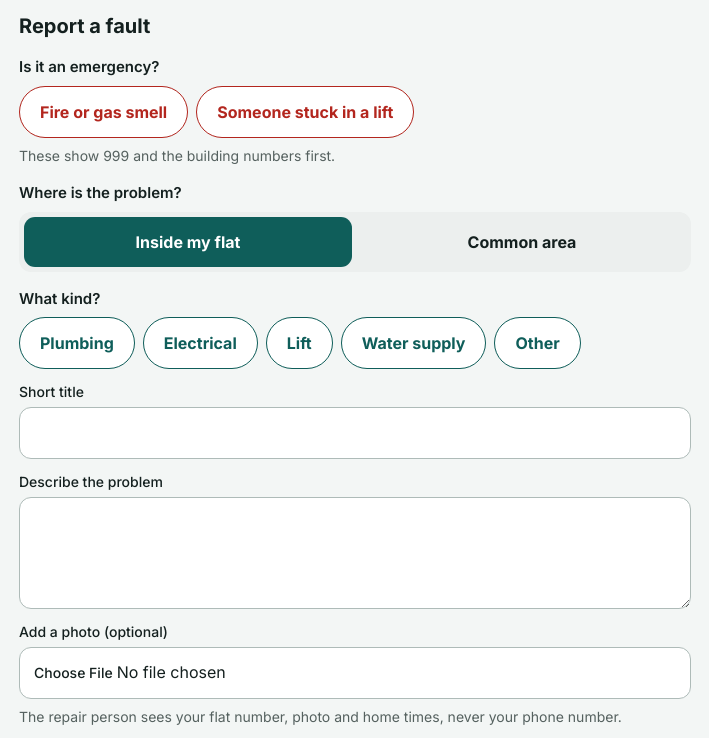
Test: ReportFaultForm: common area › shows the API's message when Me too is refused (TC-R02-09)
Click the button "Common area": (522, 242) [357,216,687,268]
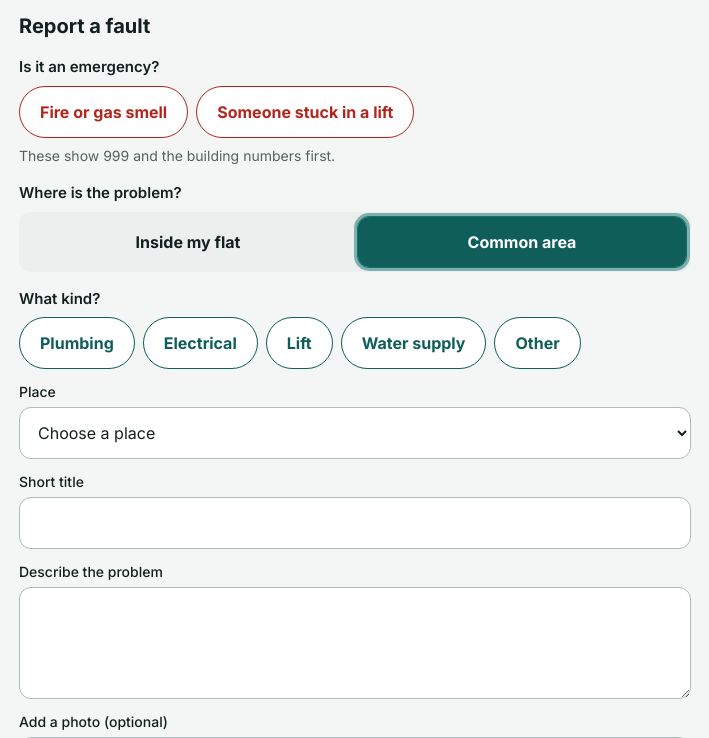
Click the button "Plumbing": (77, 343) [19,317,135,369]
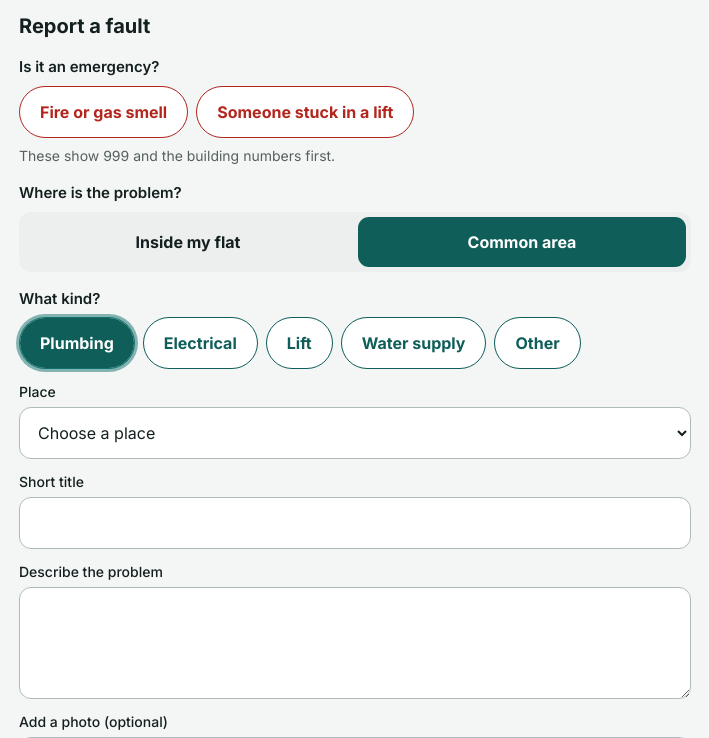
Select "Water pump" in the dropdown labelled "Place": (355, 433) [19,407,691,459]
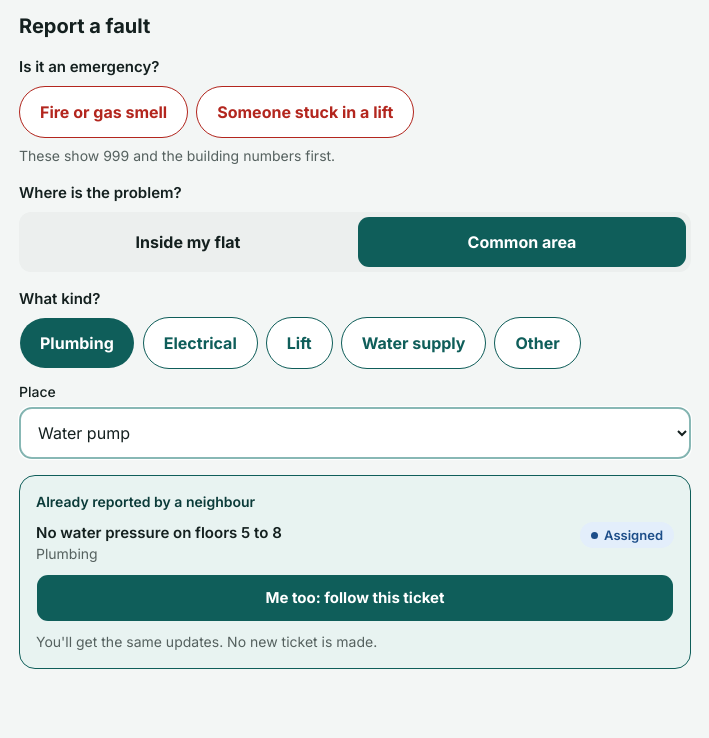
Click the button "Me too: follow this ticket": (355, 598) [36,574,674,622]
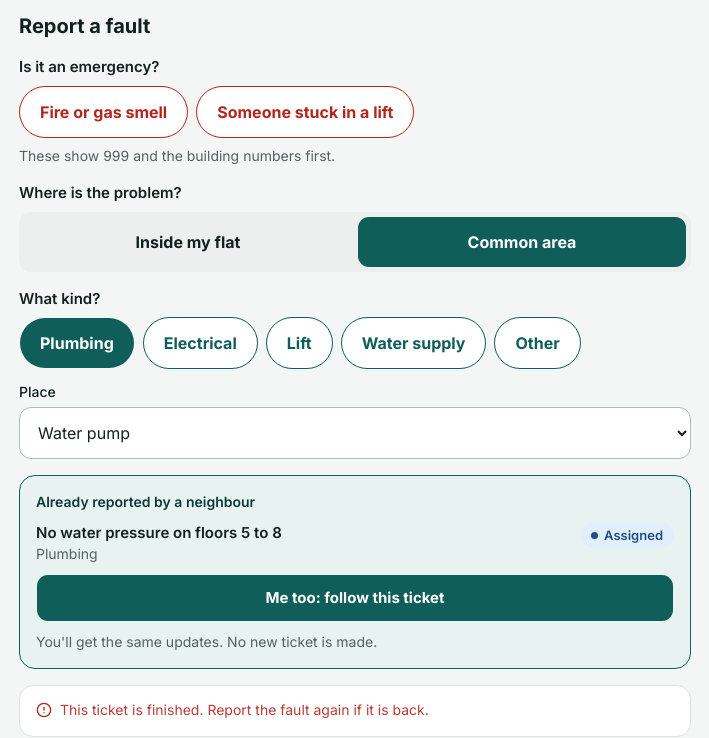
Result: the text "This ticket is finished" is shown at [60,701,429,718]
